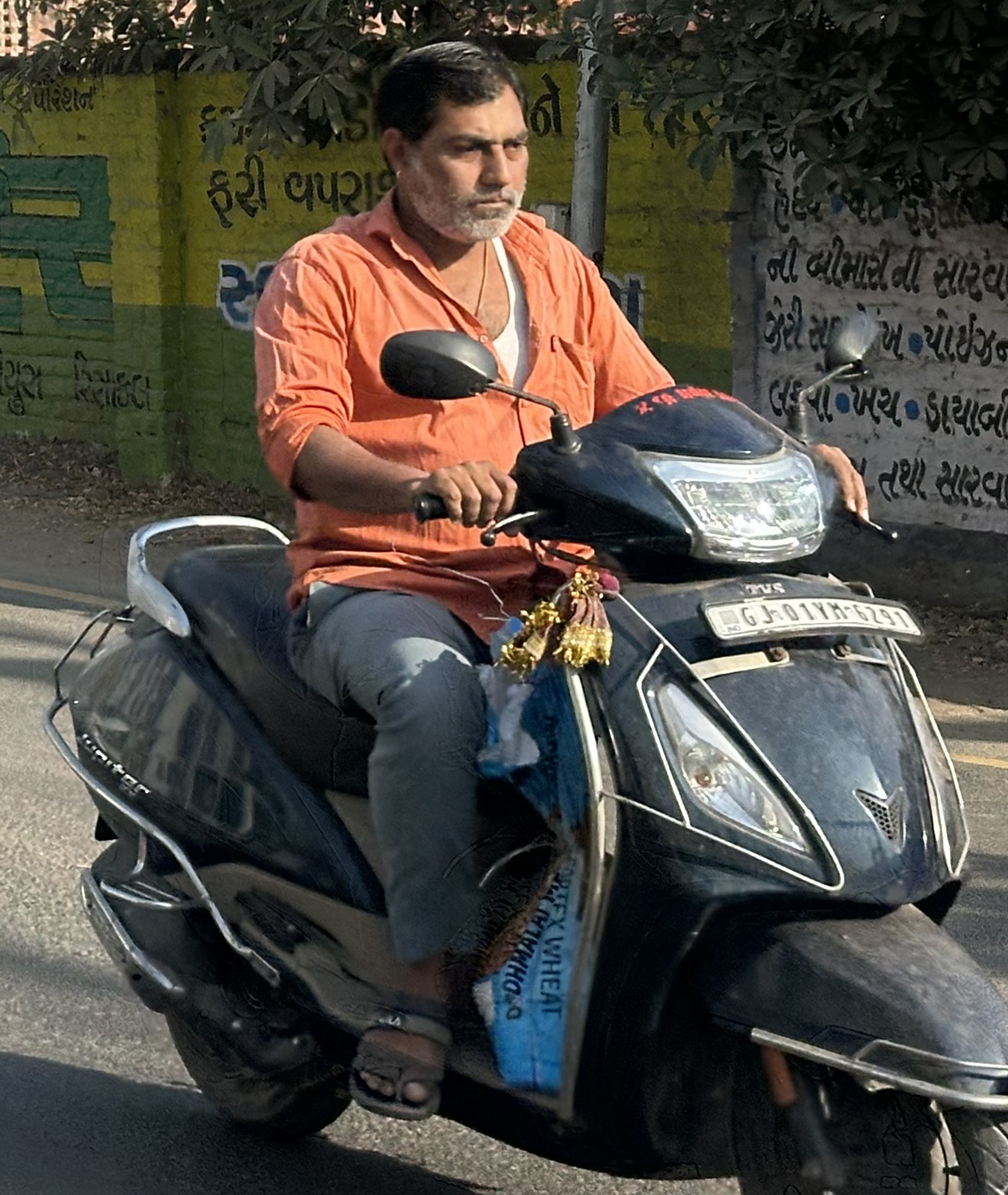BikeWithRider: (32, 28, 1008, 1195)
NoHelmet: (369, 32, 536, 245)
